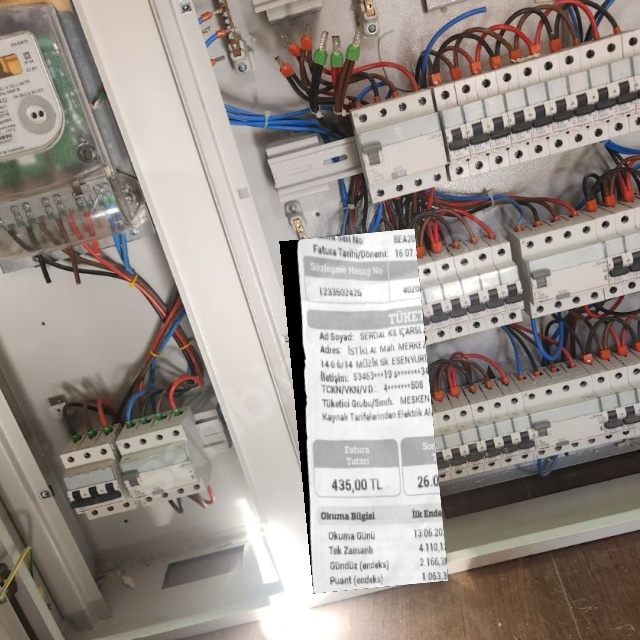electricity-bill: (279, 227, 449, 593)
